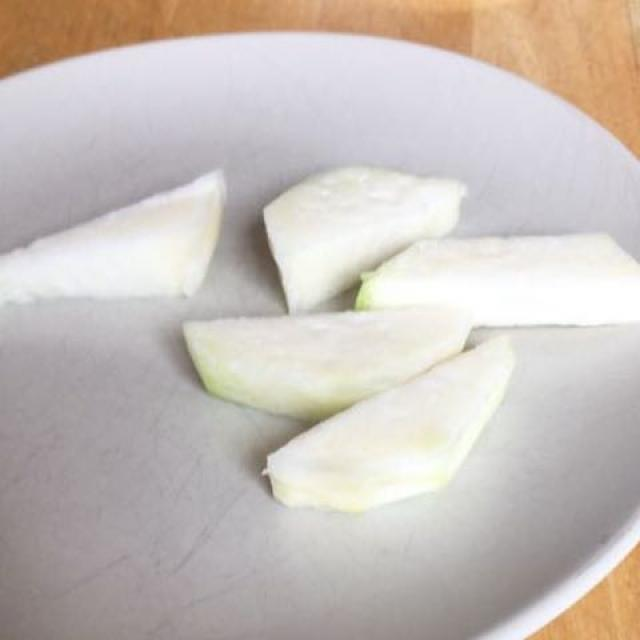kolhrabi: (1, 160, 633, 512)
